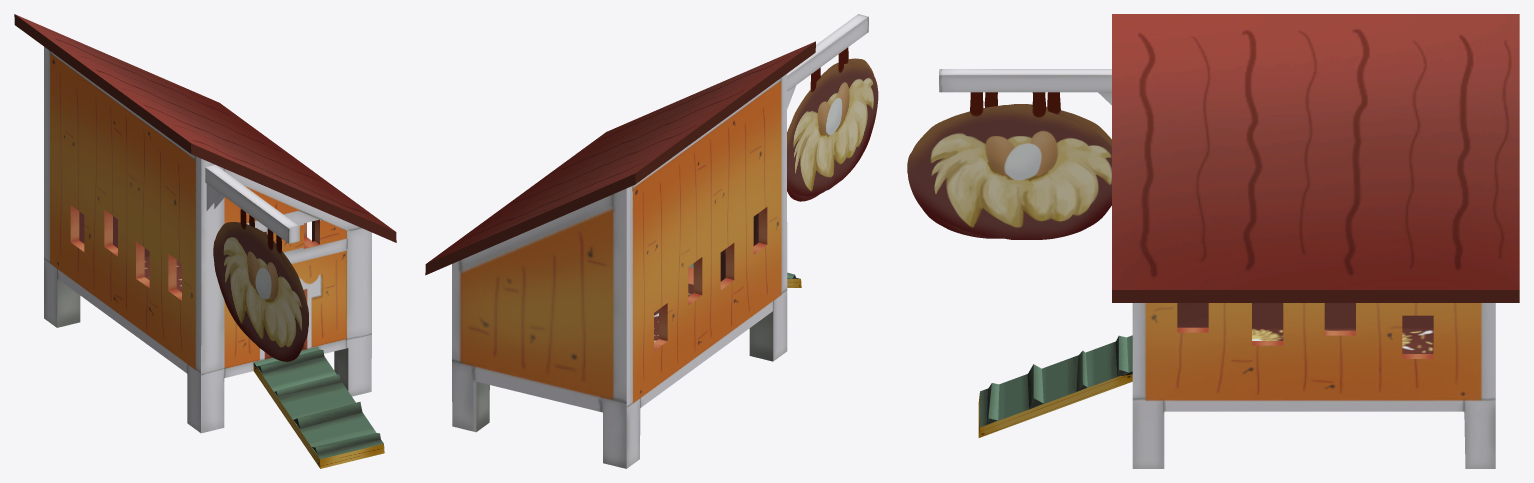
Rendered from saa7zcoop.dae.
The picture shows the model from 3 angles, left to right: view 1: azimuth 30°, elevation 25°; view 2: azimuth 150°, elevation 25°; view 3: azimuth 270°, elevation 25°; orthographic projection. The views are drawn at different scales.
Parts seen in each view (by area): view 1: Chicken_Coop, Chicken_Coop_Sign; view 2: Chicken_Coop, Chicken_Coop_Sign; view 3: Chicken_Coop, Chicken_Coop_Sign.
Boxes of the visible parts, x1=… form: Chicken_Coop: x1=14, y1=14, x2=396, y2=468; Chicken_Coop_Sign: x1=213, y1=209, x2=308, y2=361; Chicken_Coop: x1=425, y1=14, x2=868, y2=468; Chicken_Coop_Sign: x1=787, y1=47, x2=878, y2=201; Chicken_Coop: x1=939, y1=14, x2=1519, y2=468; Chicken_Coop_Sign: x1=907, y1=92, x2=1111, y2=239.
Size of the model in its own units: 7.23 by 10.13 by 16.14.
